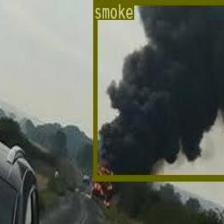smoke: (92, 0, 224, 179)
